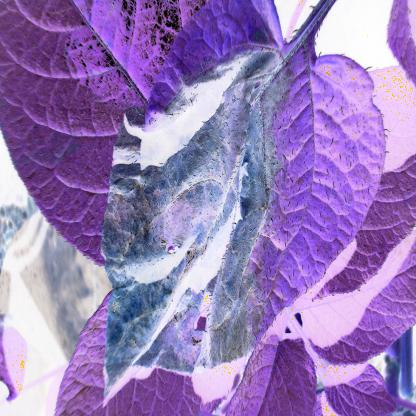potato leaf late blight: (100, 33, 389, 411)
